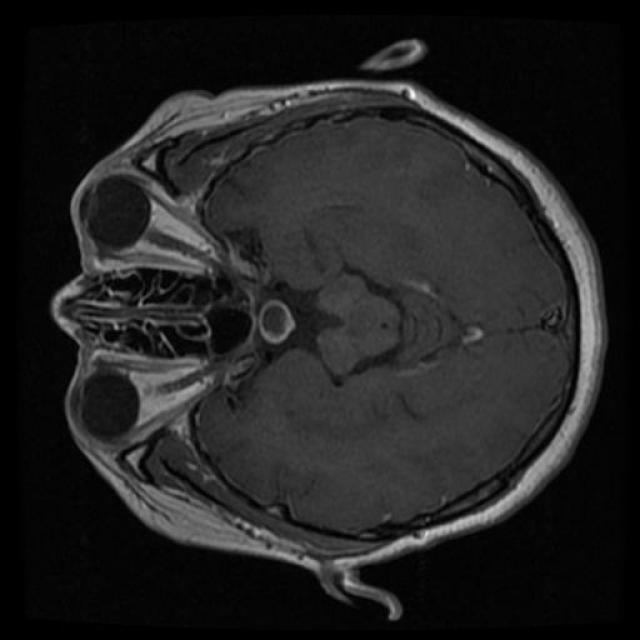Pituitary: (260, 299, 295, 344)
